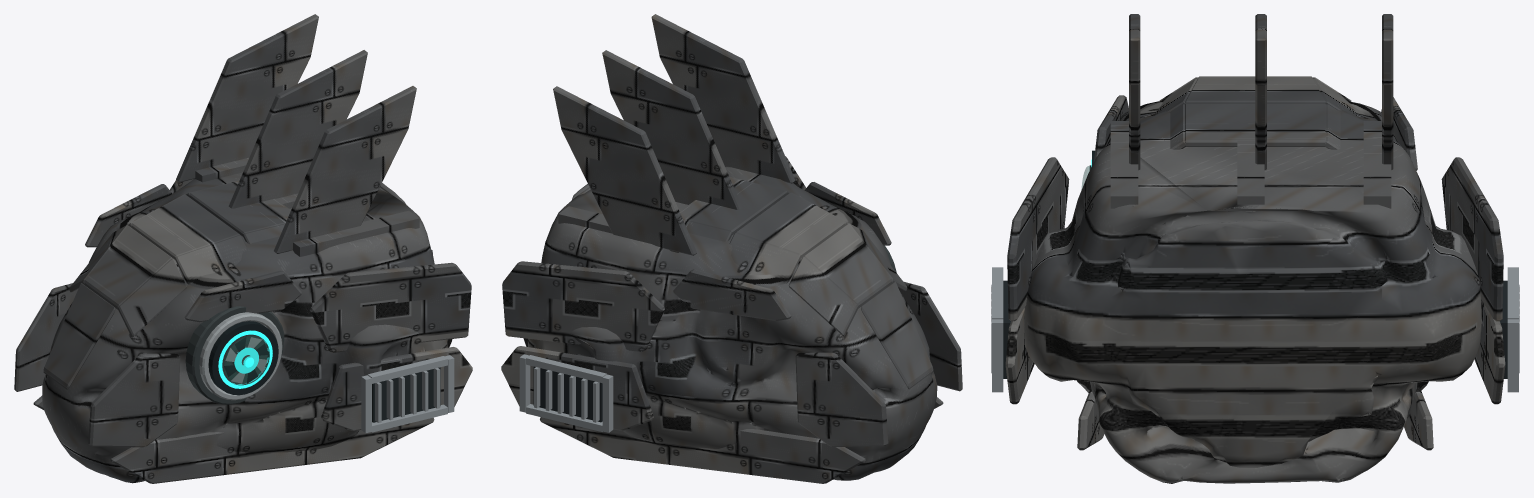
File: head.glb
The picture shows the model from 3 angles, left to right: view 1: azimuth 30°, elevation 25°; view 2: azimuth 150°, elevation 25°; view 3: azimuth 270°, elevation 25°; orthographic projection. The views are drawn at different scales.
Parts seen in each view (by area): view 1: Head, Lens_-1_ring_0, Lens_-1_ring_1, Curved optical cover, Lens_-1_ring_2, Lens_-1_ring_3, Lens_-1_ring_4; view 2: Head; view 3: Head.
Part boxes in pixels (x1,y1,x2,y2): Head: (14, 14, 472, 483); Lens_-1_ring_0: (185, 306, 284, 404); Lens_-1_ring_1: (199, 312, 282, 400); Curved optical cover: (224, 336, 269, 384); Lens_-1_ring_2: (208, 321, 278, 395); Lens_-1_ring_3: (218, 330, 272, 388); Lens_-1_ring_4: (222, 334, 269, 385); Head: (501, 14, 962, 483); Head: (991, 14, 1519, 483).
Bounding box in the file's own units: 1.53 × 1.56 × 1.63.
8 materials, 1 textured.
